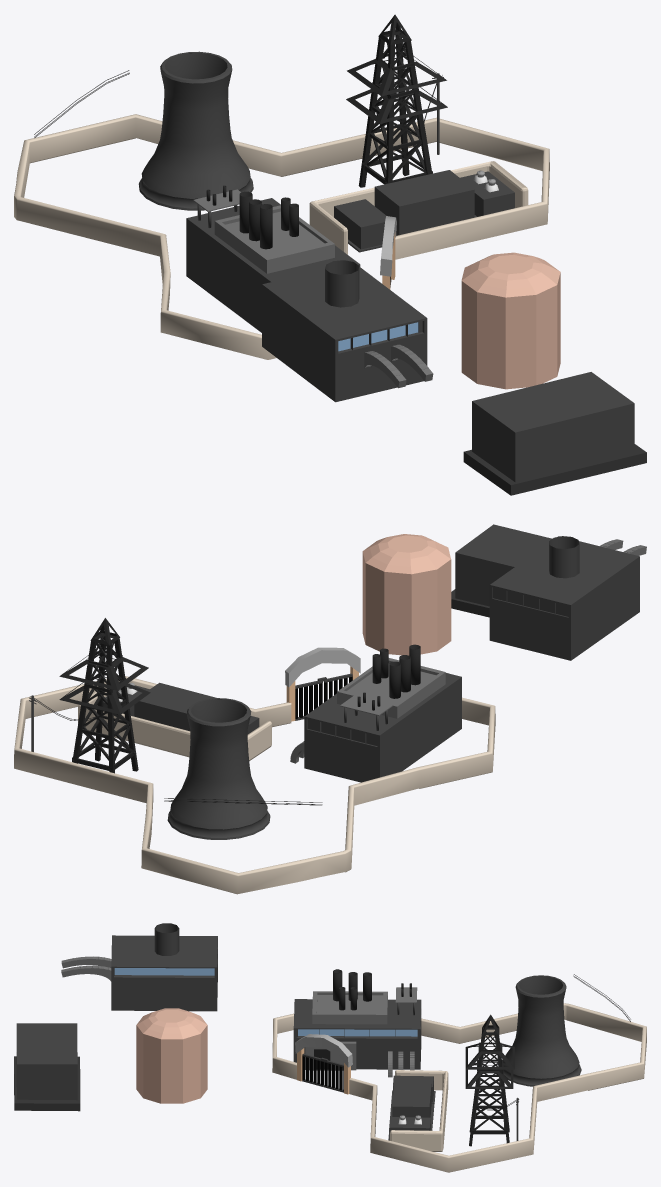
Rendered from Industrial4_5 .fbx.
The picture shows the model from 3 angles, top to bottom: view 1: azimuth 30°, elevation 25°; view 2: azimuth 150°, elevation 25°; view 3: azimuth 270°, elevation 25°; orthographic projection. The views are drawn at different scales.
Visible parts, largest first — view 1: Wall, Cube.004, generator1, Building1, Tank, Chimney1, Generator unit, Electrical, Gate; view 2: Wall, Building1, Cube.004, Chimney1, Tank, Electrical, Generator unit, generator1, Gate; view 3: Wall, Building1, Cube.004, Tank, Chimney1, generator1, Generator unit, Electrical, Gate.
Part boxes in pixels (left/top/right/bottom): Wall: left=14, top=114, right=549, bottom=359; Cube.004: left=262, top=260, right=433, bottom=402; generator1: left=463, top=372, right=646, bottom=495; Building1: left=186, top=185, right=360, bottom=332; Tank: left=461, top=252, right=560, bottom=389; Chimney1: left=138, top=51, right=253, bottom=210; Generator unit: left=309, top=161, right=528, bottom=254; Electrical: left=346, top=14, right=447, bottom=187; Gate: left=380, top=216, right=396, bottom=289; Wall: left=14, top=676, right=495, bottom=894; Building1: left=290, top=644, right=461, bottom=782; Cube.004: left=489, top=536, right=646, bottom=660; Chimney1: left=167, top=698, right=270, bottom=839; Tank: left=362, top=534, right=451, bottom=655; Electrical: left=59, top=618, right=150, bottom=773; Generator unit: left=78, top=682, right=271, bottom=760; generator1: left=451, top=524, right=551, bottom=617; Gate: left=285, top=647, right=360, bottom=721; Wall: left=272, top=1003, right=646, bottom=1172; Building1: left=293, top=969, right=421, bottom=1077; Cube.004: left=61, top=923, right=217, bottom=1011; Tank: left=136, top=1008, right=207, bottom=1103; Chimney1: left=503, top=975, right=581, bottom=1086; generator1: left=14, top=1023, right=80, bottom=1111; Generator unit: left=388, top=1070, right=448, bottom=1151; Electrical: left=465, top=1014, right=514, bottom=1146; Gate: left=295, top=1034, right=352, bottom=1094.
Bounding box in the file's own units: 304 × 114 × 516.
